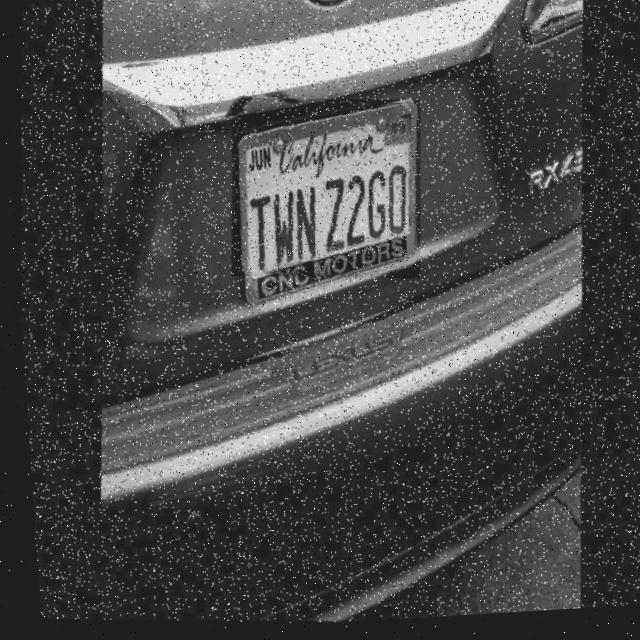LicensePlate: (218, 91, 427, 292)
